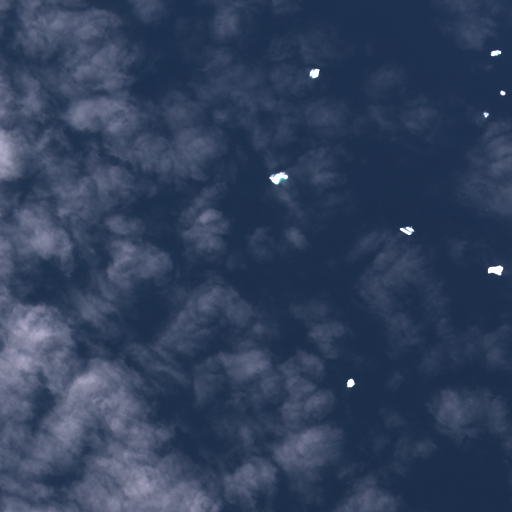Iceberg: (269, 172, 288, 184), (488, 265, 502, 275), (400, 226, 413, 234), (309, 68, 319, 78), (347, 378, 355, 387), (490, 50, 501, 56), (500, 90, 505, 95), (483, 112, 488, 117)
